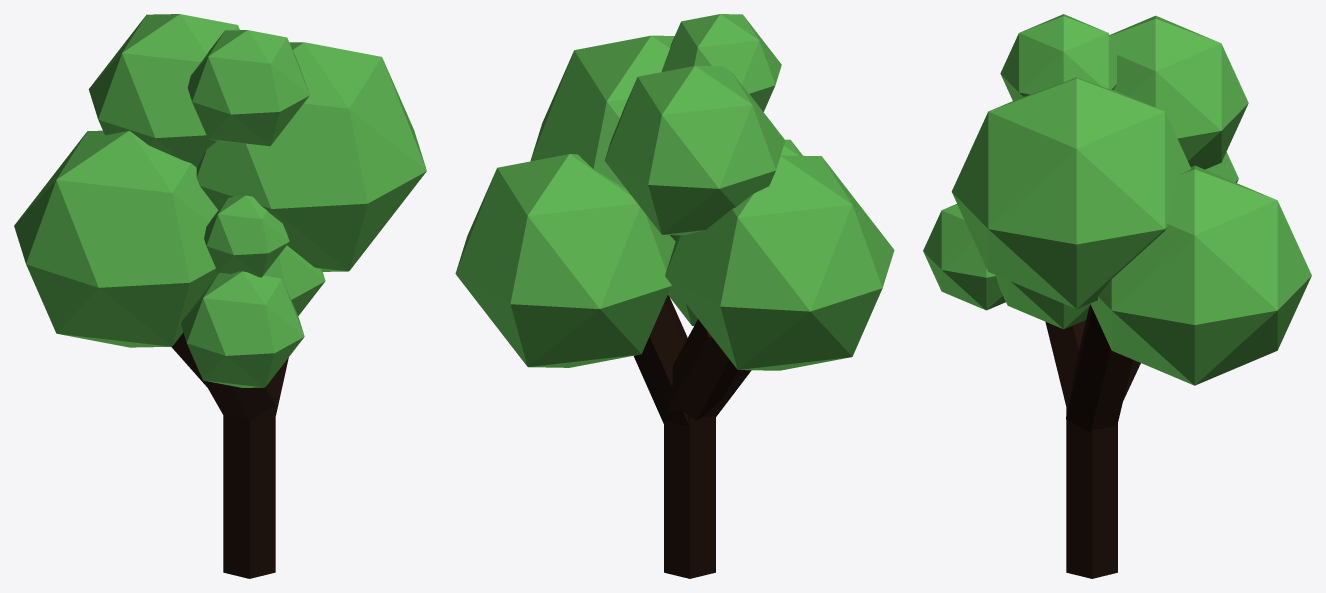
The model's file is Plants-Tree-Blobs-Large.FBX.
3 renders of one model, left to right at view 1: azimuth 30°, elevation 25°; view 2: azimuth 150°, elevation 25°; view 3: azimuth 270°, elevation 25°, orthographic.
Visible parts, largest first — view 1: Plants-Tree-Blobs-Large; view 2: Plants-Tree-Blobs-Large; view 3: Plants-Tree-Blobs-Large.
Part boxes in pixels (x1,y1,x2,y2): Plants-Tree-Blobs-Large: (14, 14, 426, 578); Plants-Tree-Blobs-Large: (455, 14, 894, 578); Plants-Tree-Blobs-Large: (923, 14, 1311, 578).
Size of the model in its own units: 72.72 by 65.15 by 100.
